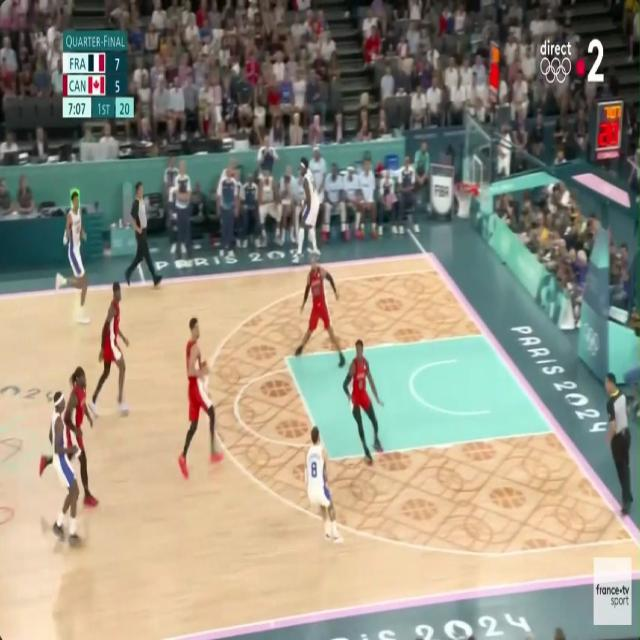ball_handler: (303, 430, 341, 549)
